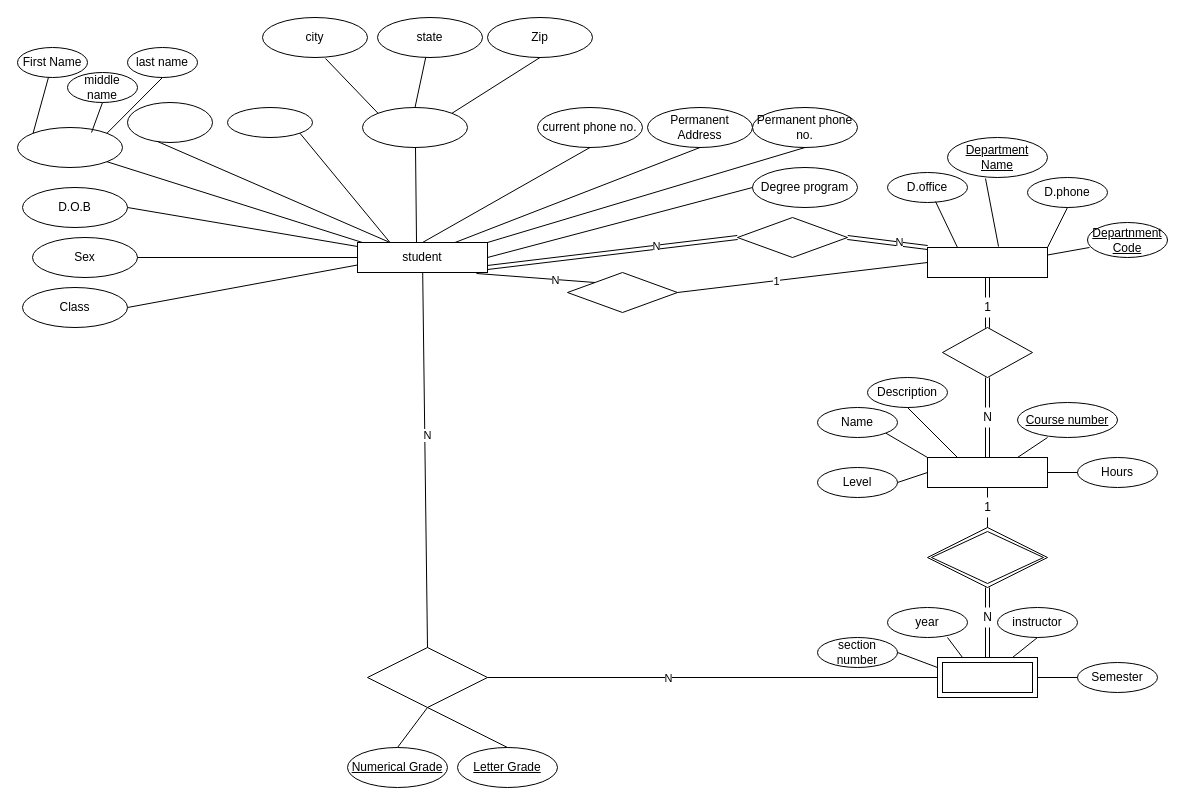
The diagram is 1185 pixels wide and 805 high, and some of its shapes have lost their labels. Each missing label, with the centre of its shape:
"course" goes at point 987,472.
"current address" goes at point 415,127.
"Department" goes at point 987,262.
"Dept.Courses" goes at point 987,352.
"Has_section" goes at point 987,557.
"Major Dept." goes at point 792,237.
"Minor Dept." goes at point 622,292.
"Section" goes at point 987,677.
"SSN" goes at point 269,122.
"SSN number" goes at point 169,122.
"Student Name" goes at point 69,147.
"Takes_Class" goes at point 427,677.
